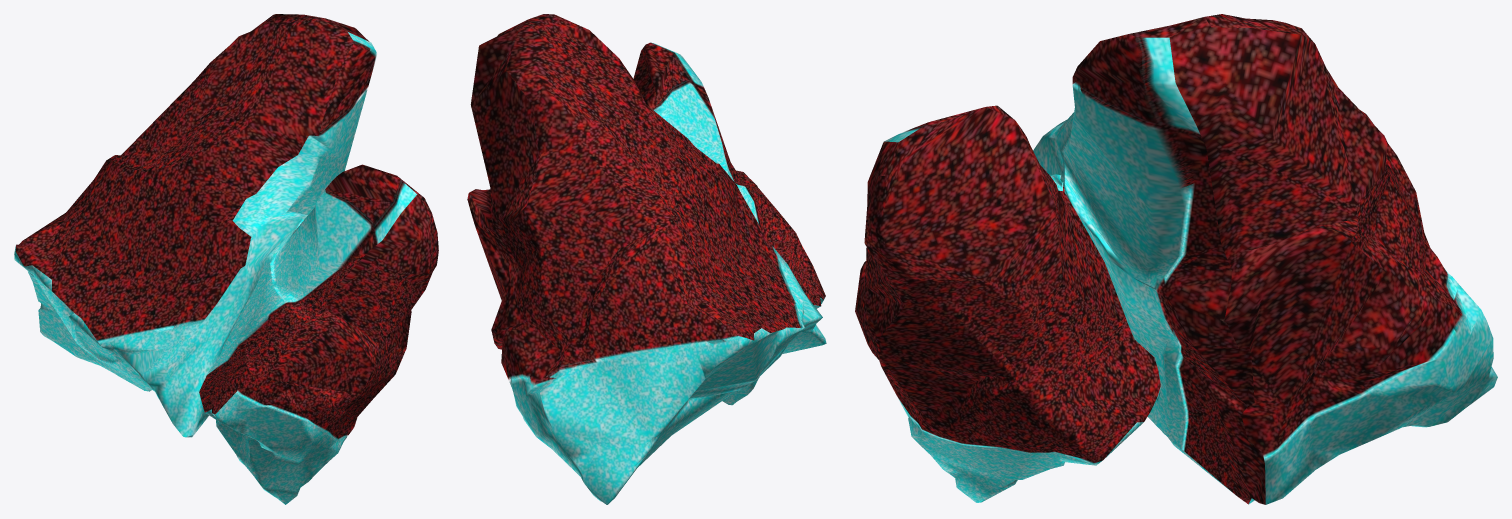
The picture shows the model from 3 angles, left to right: view 1: azimuth 30°, elevation 25°; view 2: azimuth 150°, elevation 25°; view 3: azimuth 270°, elevation 25°; orthographic projection. The views are drawn at different scales.
Parts seen in each view (by area): view 1: SM_VFX_EarthMagic_Rock_LOD0; view 2: SM_VFX_EarthMagic_Rock_LOD0; view 3: SM_VFX_EarthMagic_Rock_LOD0.
Boxes of the visible parts, x1=… form: SM_VFX_EarthMagic_Rock_LOD0: x1=14, y1=14, x2=438, y2=504; SM_VFX_EarthMagic_Rock_LOD0: x1=467, y1=14, x2=826, y2=504; SM_VFX_EarthMagic_Rock_LOD0: x1=855, y1=14, x2=1497, y2=504.
Bounding box in the file's own units: 2.14 × 2.72 × 2.81.
1 material, 1 textured.
